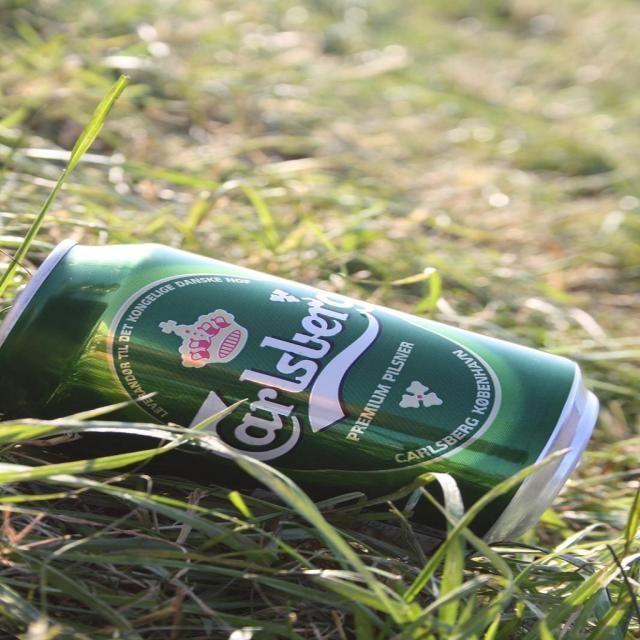carlsberg: (103, 274, 505, 477)
